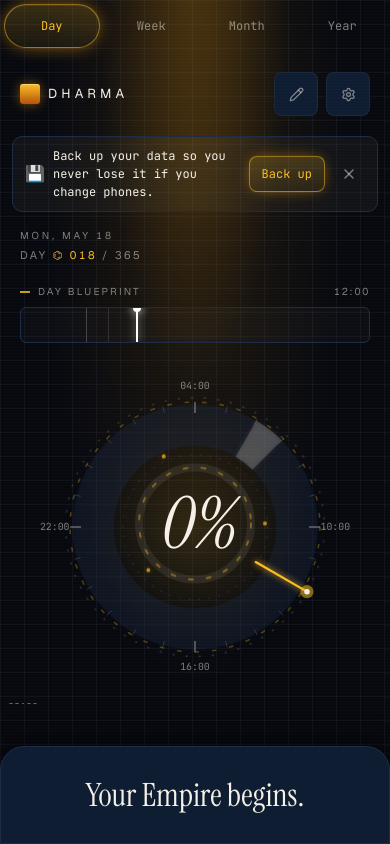
Test: C-m9d-011: AppShell — selecting Week renders the Castle week view › clicking Year segment renders the Empire year view (Months of <year> list)
(page scrolled)
Click Year — now shows Empire view
Click the tab "Year": {"x": 342, "y": 26} [294,0,389,52]
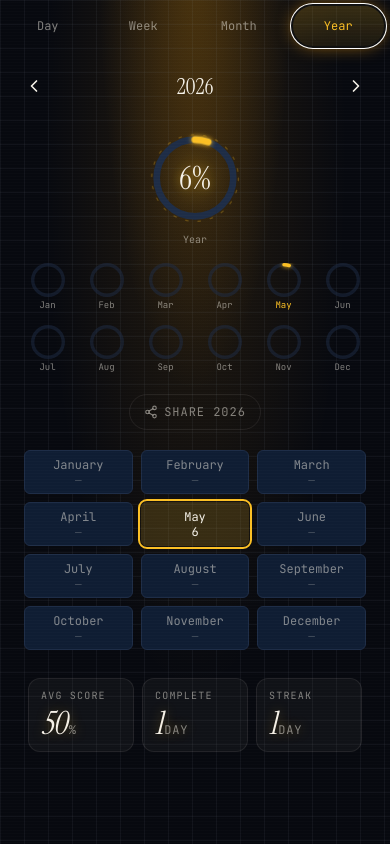
expect the list named "months of" is shown: met, box [12,438,378,662]
